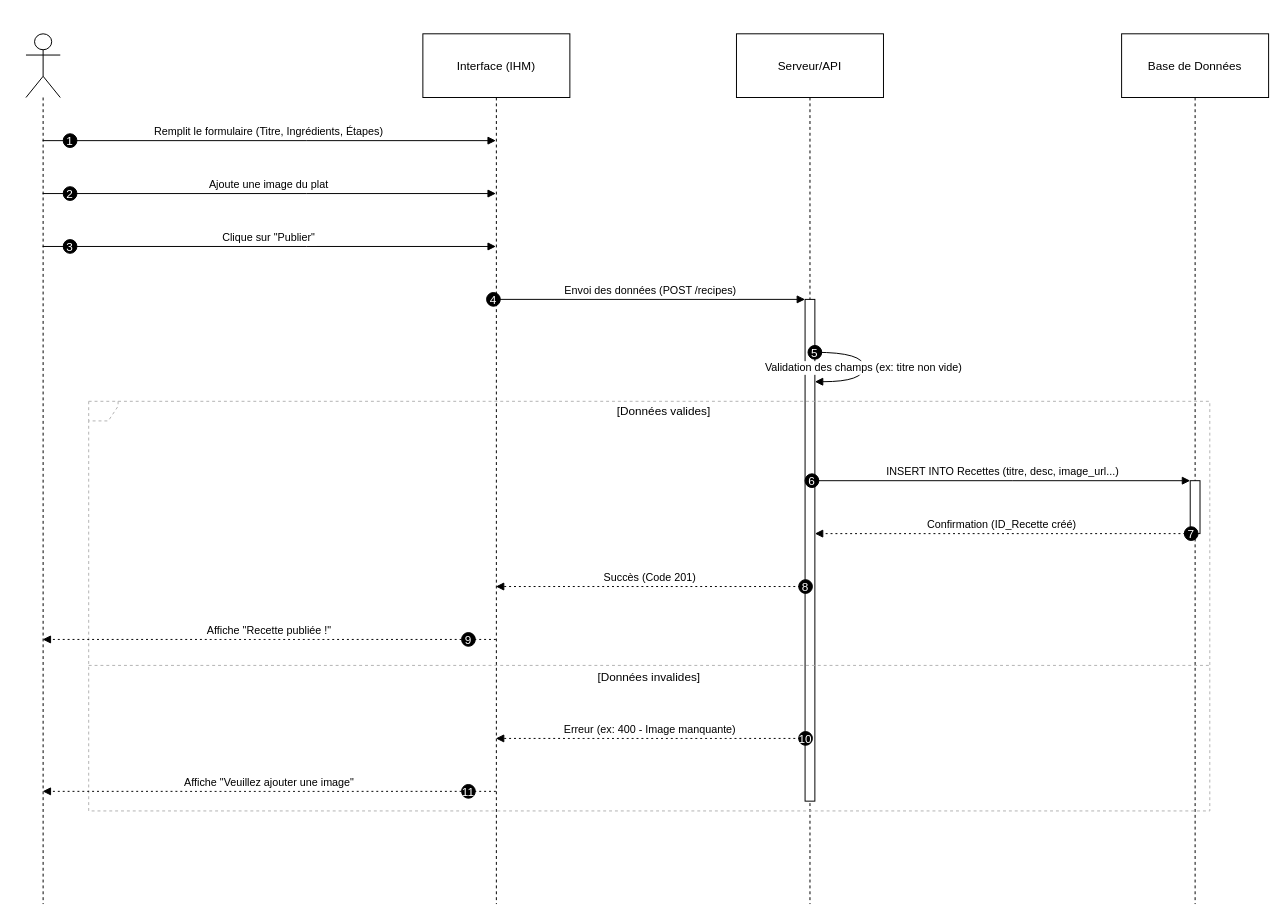
This 1286x921 diagram has some shape labels left out. The box of each missing label's shape, as (x1, y1, x2, y2) in pixels:
alt: (88, 400, 1210, 811)
Utilisateur: (25, 33, 60, 904)
